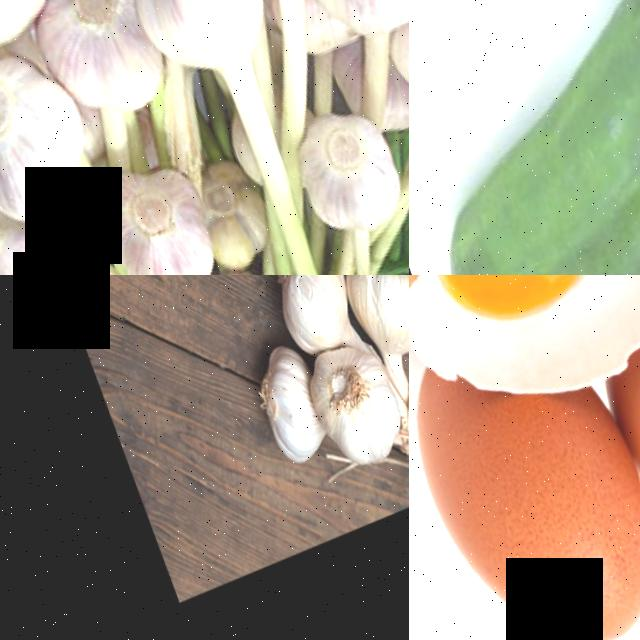cucumber: (409, 0, 640, 275)
egg_: (409, 379, 640, 640), (419, 275, 625, 362)
garlic: (278, 102, 409, 259), (26, 0, 167, 141), (0, 41, 95, 241), (294, 336, 409, 490), (84, 153, 222, 275), (126, 0, 280, 95), (238, 346, 330, 485), (252, 275, 359, 364), (327, 275, 409, 381), (299, 0, 409, 60), (0, 202, 68, 275)
